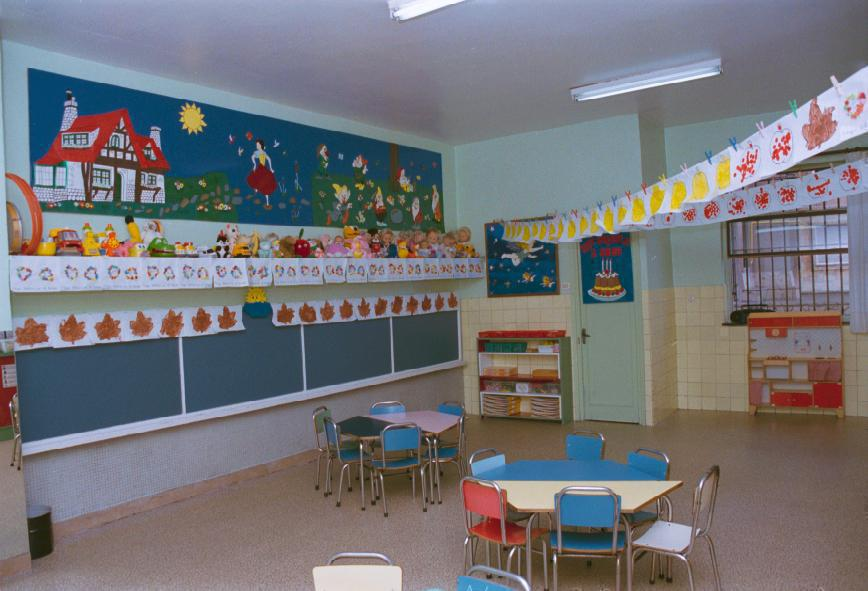Puerta: (572, 240, 644, 422)
